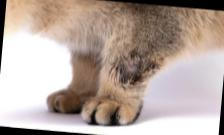ringworm: (125, 54, 145, 82)
